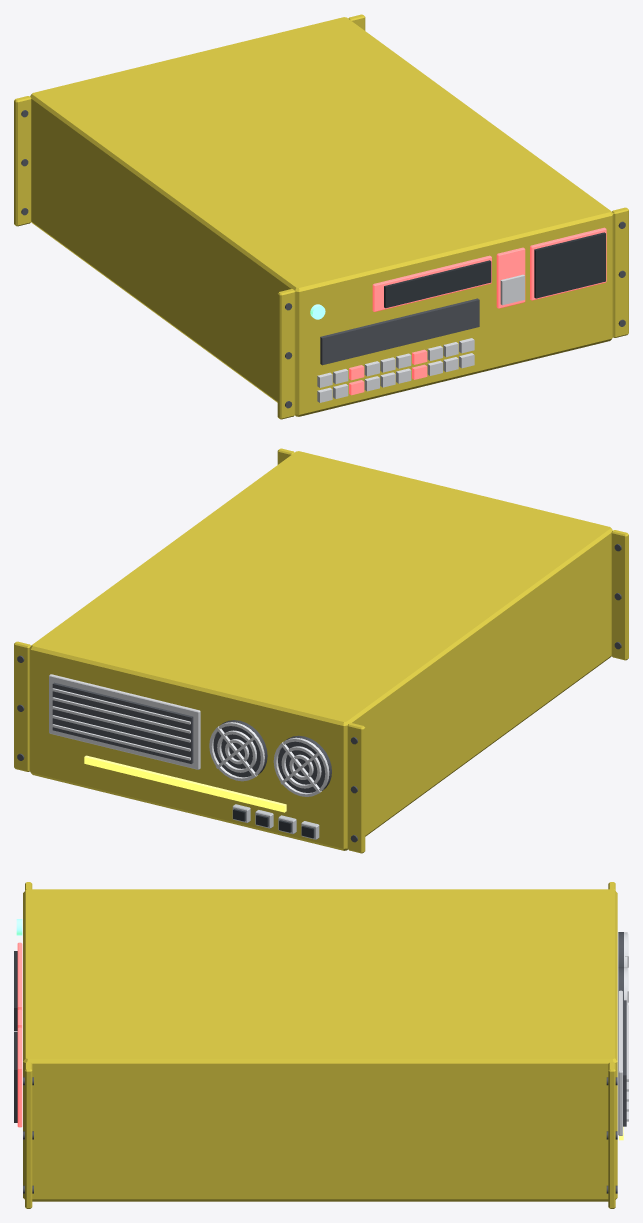
File: dc_server_yellow.glb
3 views of the same model, one above another, from view 1: azimuth 30°, elevation 25°; view 2: azimuth 150°, elevation 25°; view 3: azimuth 270°, elevation 25° (orthographic). The views are drawn at different scales.
Parts seen in each view (by area): view 1: Server_Chassis_Body, Front_UI_And_Displays, Front_Drive_Indicators; view 2: Server_Chassis_Body, Rear_Fans_And_Radiator, Rear_Network_Ports; view 3: Server_Chassis_Body, Rear_Fans_And_Radiator, Front_UI_And_Displays.
Part boxes in pixels (x1,y1,x2,y2): Server_Chassis_Body: (14,14,628,419); Front_UI_And_Displays: (310,227,606,319); Front_Drive_Indicators: (317,298,479,402); Server_Chassis_Body: (14,448,628,853); Rear_Fans_And_Radiator: (49,674,331,796); Rear_Network_Ports: (84,755,319,839); Server_Chassis_Body: (23,882,617,1208); Rear_Fans_And_Radiator: (618,932,628,1135); Front_UI_And_Displays: (14,919,22,1127).
Size of the model in its own units: 0.488 by 0.172 by 0.6725.
